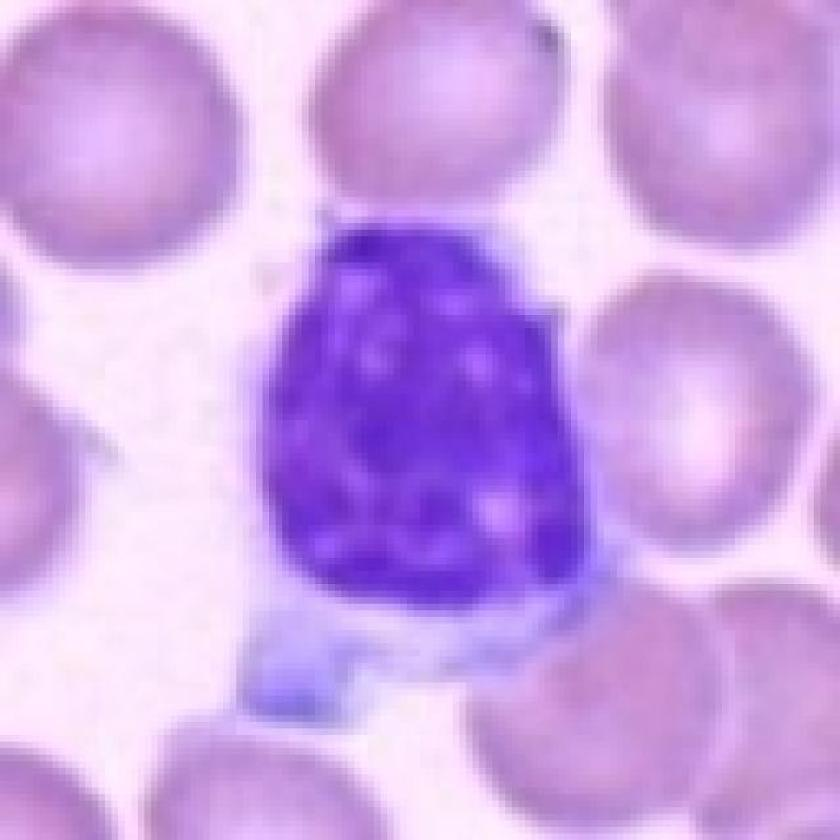lymphocyte: (235, 198, 623, 729)
